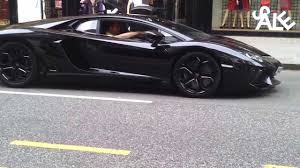Lamborghini: (1, 17, 279, 96)
